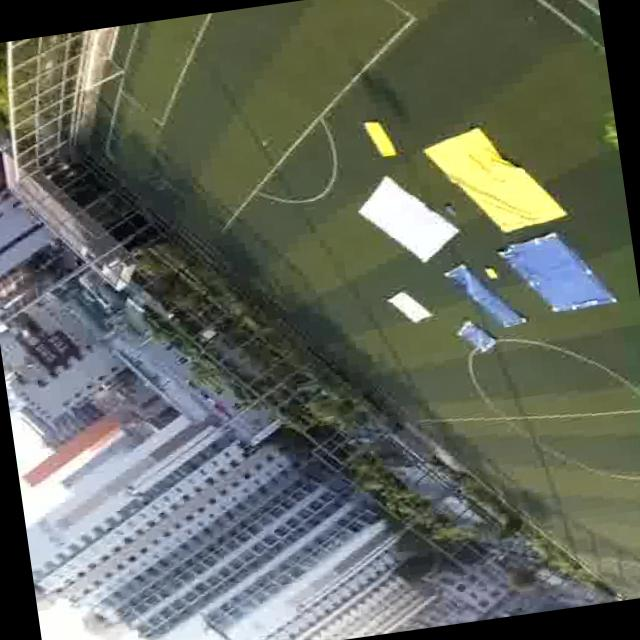danger: (521, 231, 603, 316), (448, 261, 484, 310), (459, 315, 499, 357)
safety: (367, 178, 443, 260), (383, 282, 435, 334)
warning: (451, 123, 543, 237), (362, 118, 398, 158)
